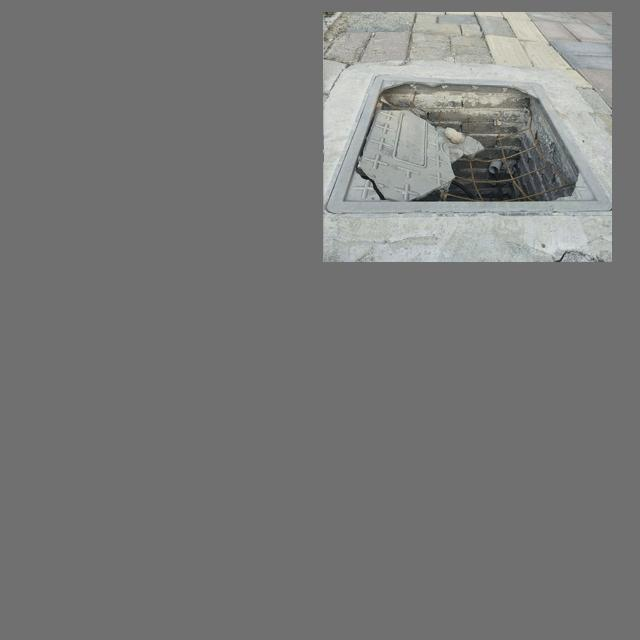broke: (338, 70, 586, 232)
